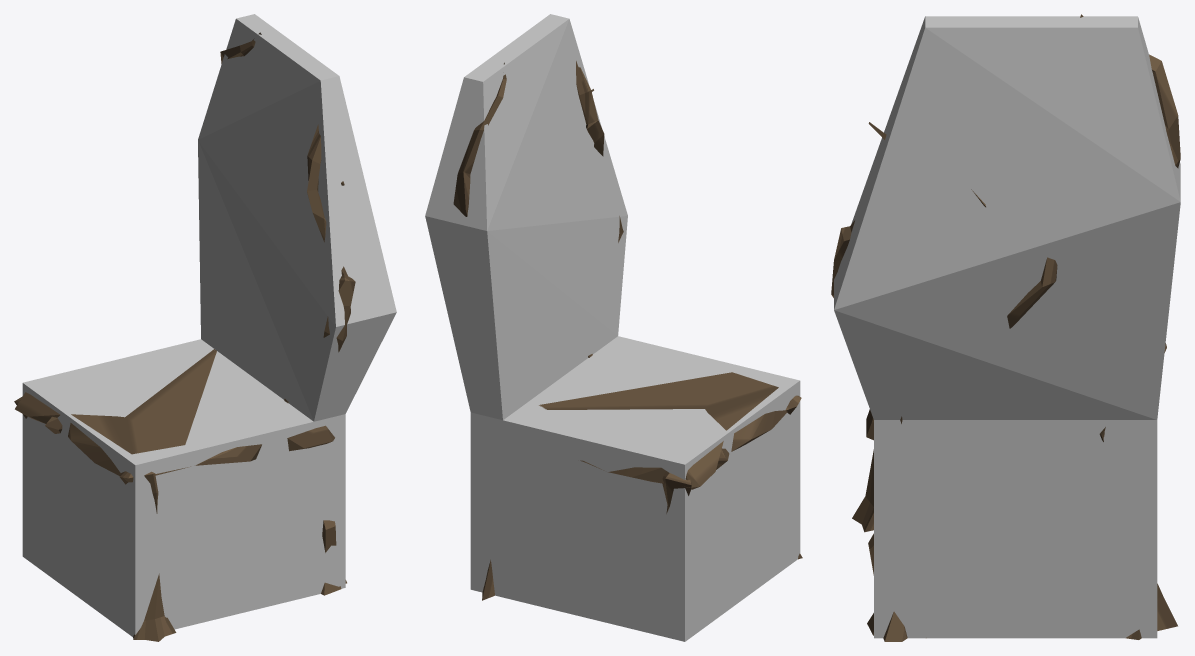
Rendered from SM_Prop_Chair_03.fbx.
3 views of the same model, side by side, from view 1: azimuth 30°, elevation 25°; view 2: azimuth 150°, elevation 25°; view 3: azimuth 270°, elevation 25° (orthographic). The views are drawn at different scales.
Visible parts, largest first — view 1: SM_Prop_Chair_03_ConvexHulls, SM_Prop_Chair_03; view 2: SM_Prop_Chair_03_ConvexHulls, SM_Prop_Chair_03; view 3: SM_Prop_Chair_03_ConvexHulls, SM_Prop_Chair_03.
Part boxes in pixels (box(x1,y1,x2,y2)): SM_Prop_Chair_03_ConvexHulls: box(22, 14, 396, 636); SM_Prop_Chair_03: box(14, 32, 355, 641); SM_Prop_Chair_03_ConvexHulls: box(425, 14, 800, 641); SM_Prop_Chair_03: box(453, 61, 802, 600); SM_Prop_Chair_03_ConvexHulls: box(834, 16, 1180, 638); SM_Prop_Chair_03: box(831, 14, 1180, 641).
Bounding box in the file's own units: 68.02 × 63.84 × 125.
2 materials, 1 textured.
